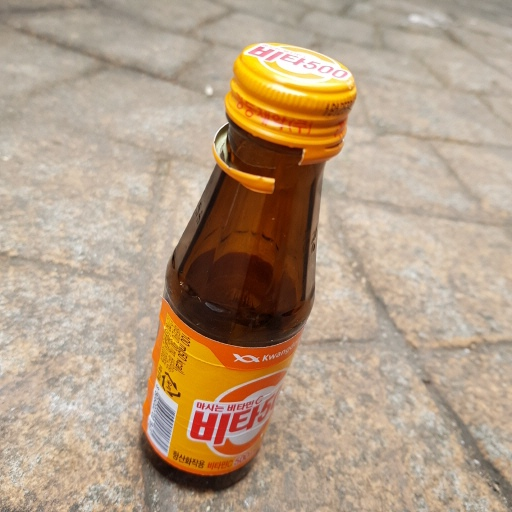Glass_3: (140, 43, 360, 489)
